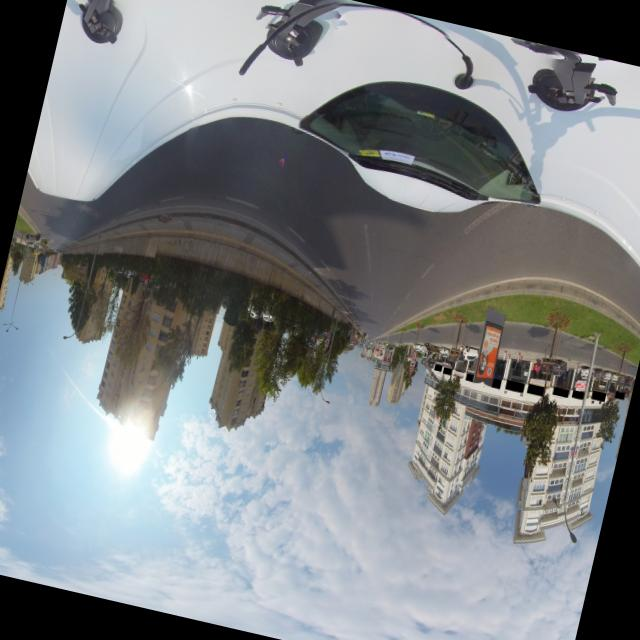SignStore: (504, 379, 524, 390), (526, 382, 543, 394), (590, 390, 605, 399), (551, 387, 568, 394), (570, 389, 583, 397), (490, 377, 501, 386), (614, 390, 624, 397), (465, 372, 473, 380), (442, 366, 451, 373), (433, 363, 441, 370)
